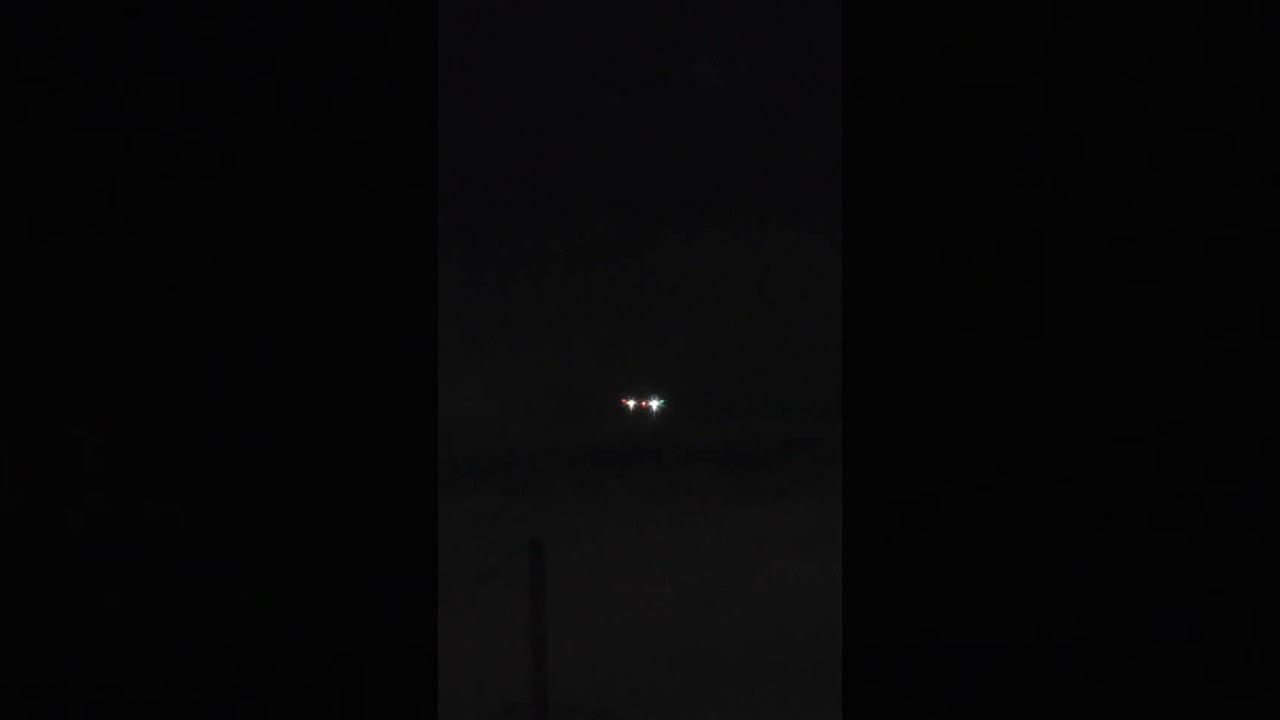Plane: (587, 379, 704, 433)
